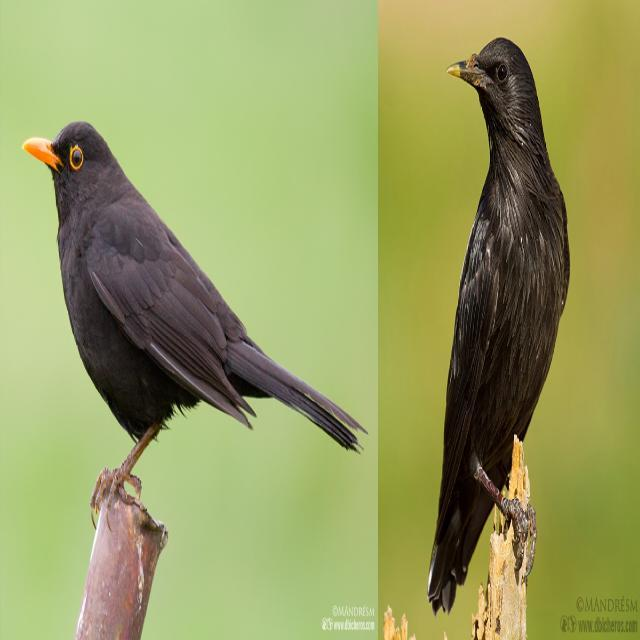bird: (16, 78, 379, 531), (407, 0, 585, 632)
